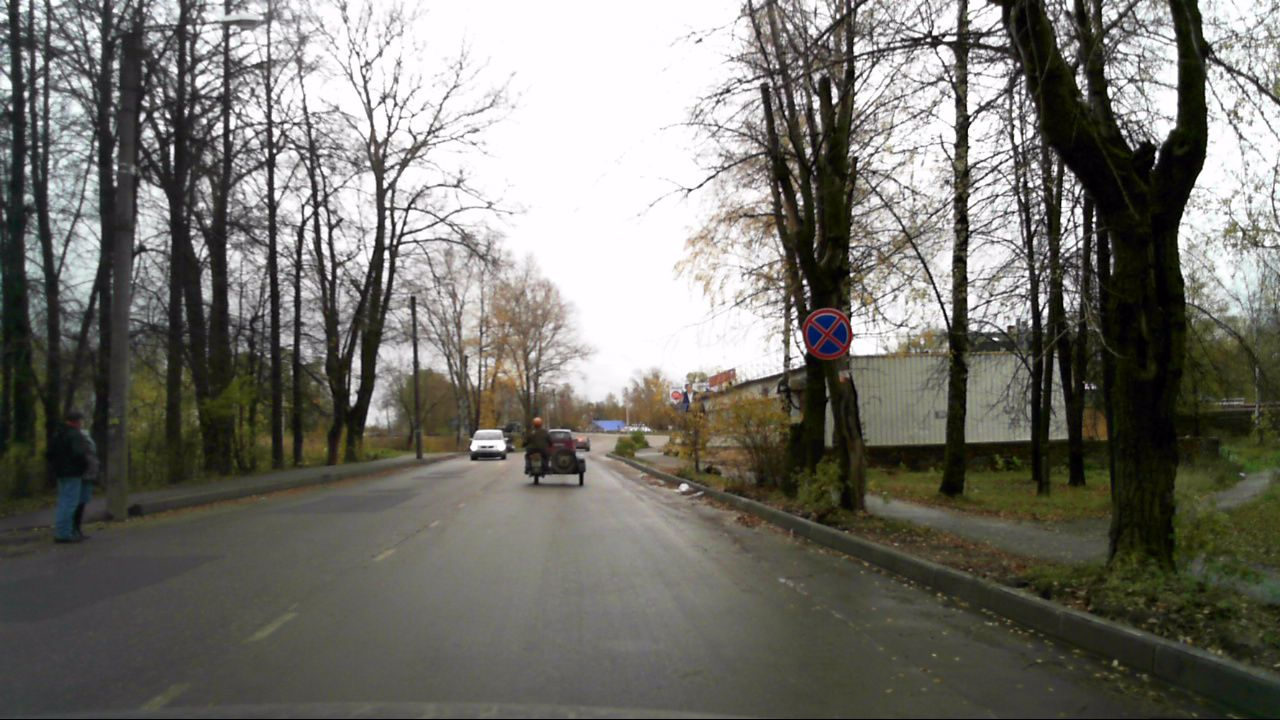No Parking: (801, 307, 853, 359)
